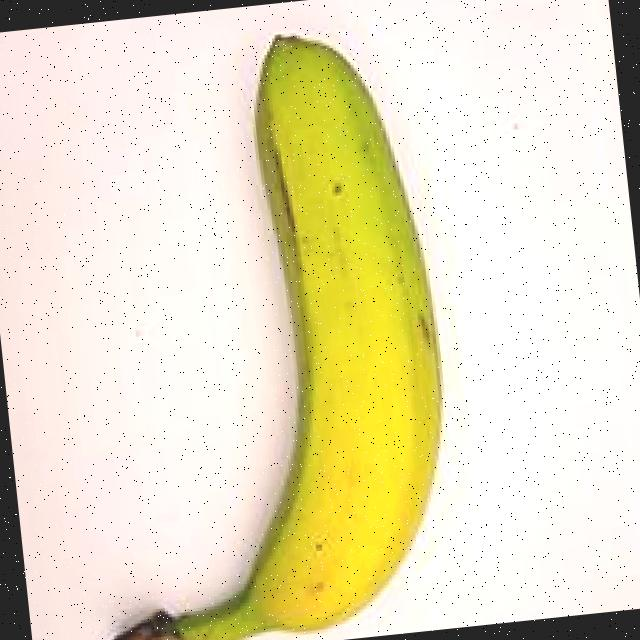Unripe: (26, 7, 484, 640)
